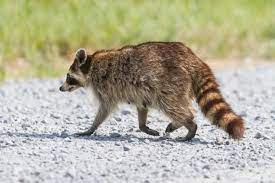raccoon: (60, 40, 247, 141)
